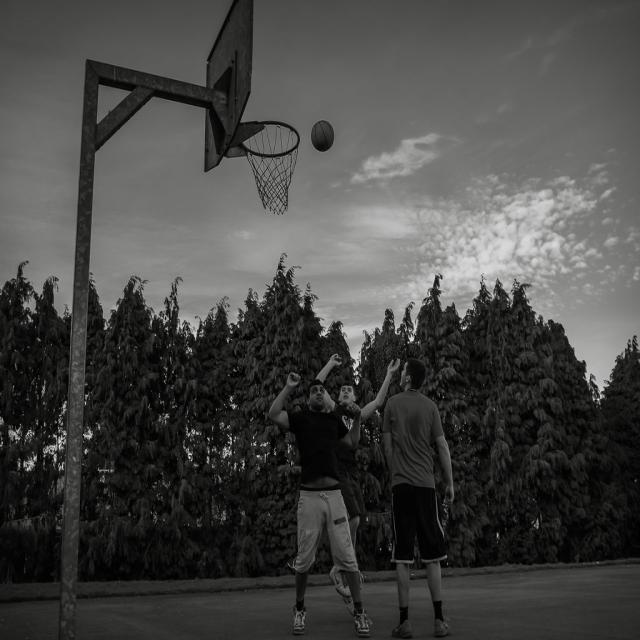basketball: (310, 119, 334, 152)
hoop: (240, 119, 300, 215)
